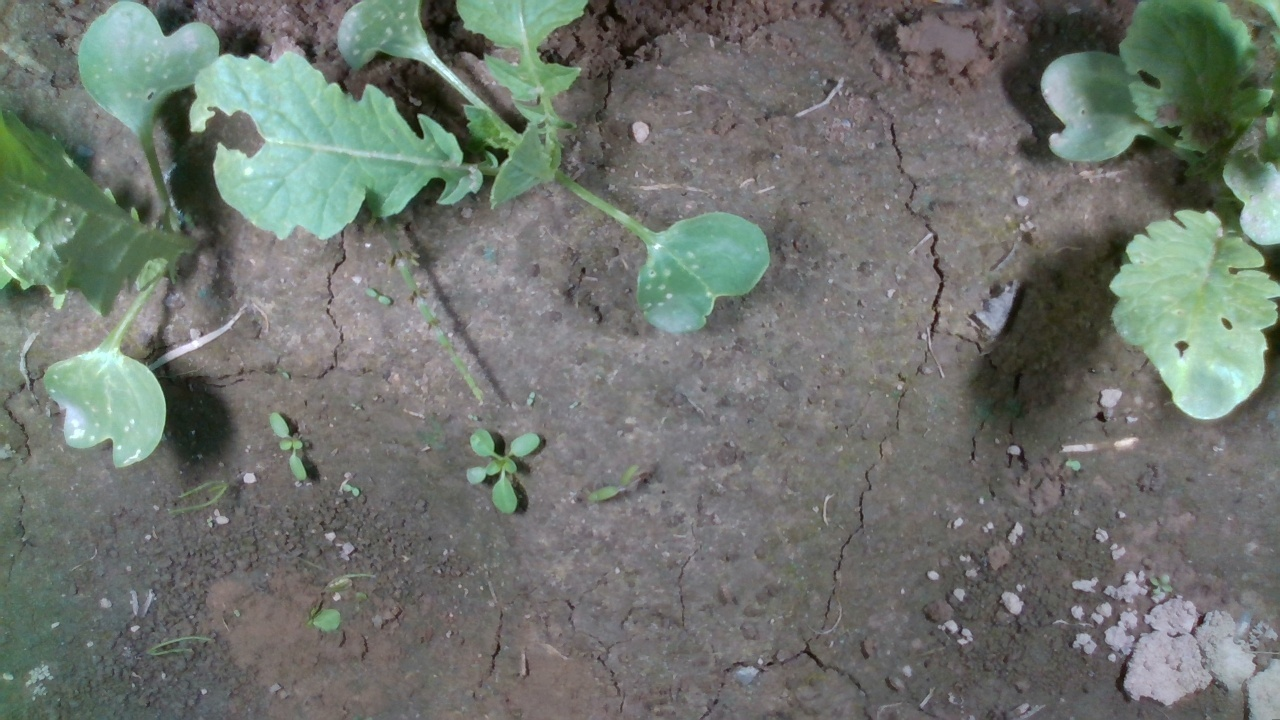weed: (460, 426, 546, 515), (266, 411, 309, 484), (584, 464, 639, 503)
